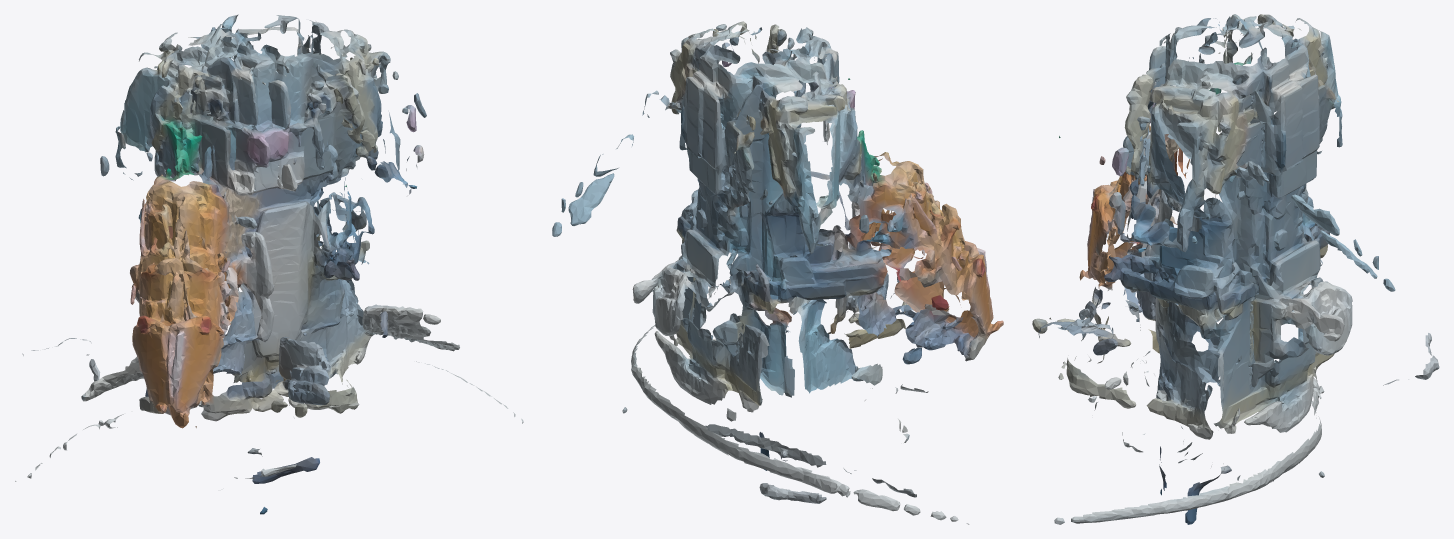
Rendered from finished_model_20260520_162132.glb.
3 views of the same model, side by side, from view 1: azimuth 30°, elevation 25°; view 2: azimuth 150°, elevation 25°; view 3: azimuth 270°, elevation 25° (orthographic). The views are drawn at different scales.
Parts seen in each view (by area): view 1: finished_model_20260520_162132.ply; view 2: finished_model_20260520_162132.ply; view 3: finished_model_20260520_162132.ply.
Part boxes in pixels (x1,y1,x2,y2): finished_model_20260520_162132.ply: (15,14,523,514); finished_model_20260520_162132.ply: (552,21,1003,524); finished_model_20260520_162132.ply: (1032,14,1439,524).
Bounding box in the file's own units: 0.1154 × 0.1244 × 0.0952.
